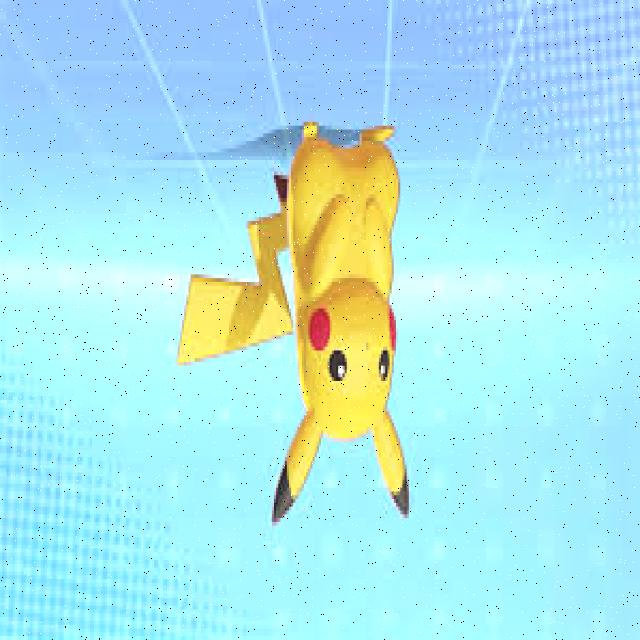pikachu: (175, 112, 410, 523)
